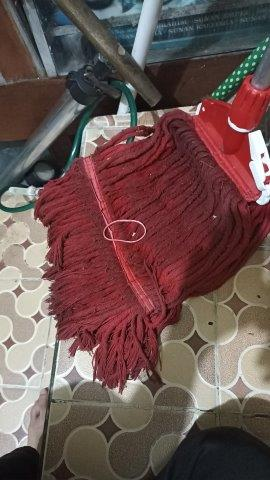karet: (102, 219, 147, 243)
